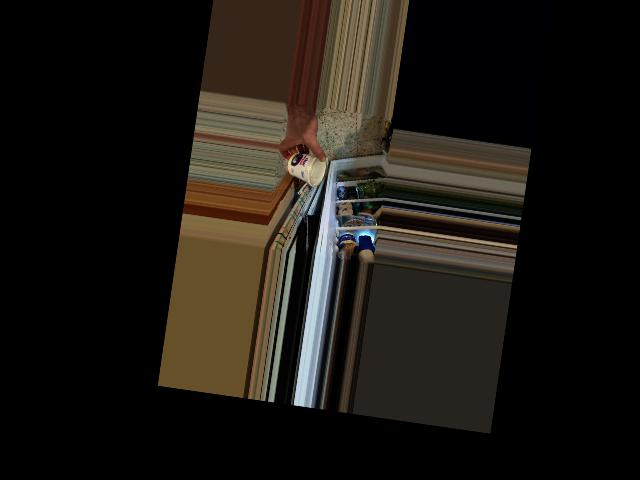cotage: (284, 147, 326, 186)
